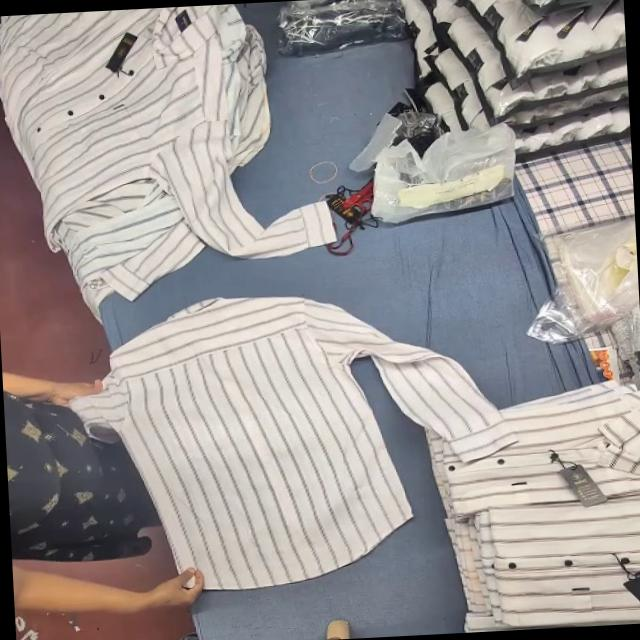new-garment: (73, 298, 516, 589)
